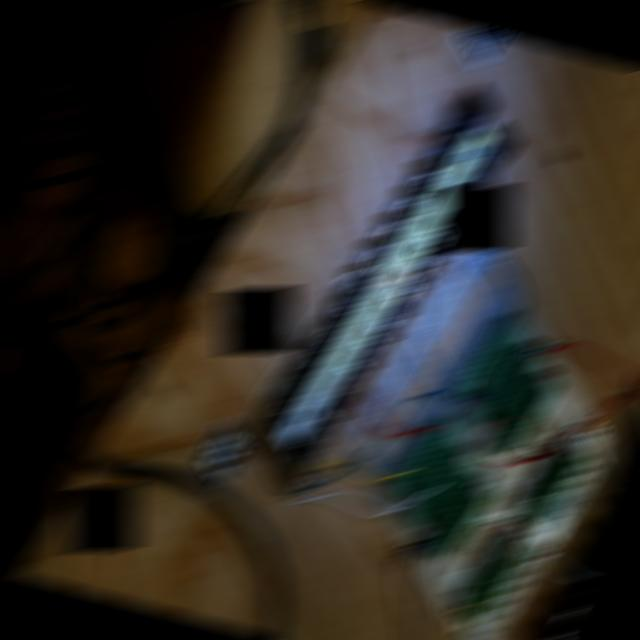Phillips_Block: (236, 85, 535, 487)
Terminal_1: (456, 534, 533, 623), (516, 443, 589, 530)
Terminal_2: (390, 415, 464, 498), (424, 477, 496, 559), (489, 371, 561, 453), (474, 341, 545, 424), (407, 447, 478, 529)
